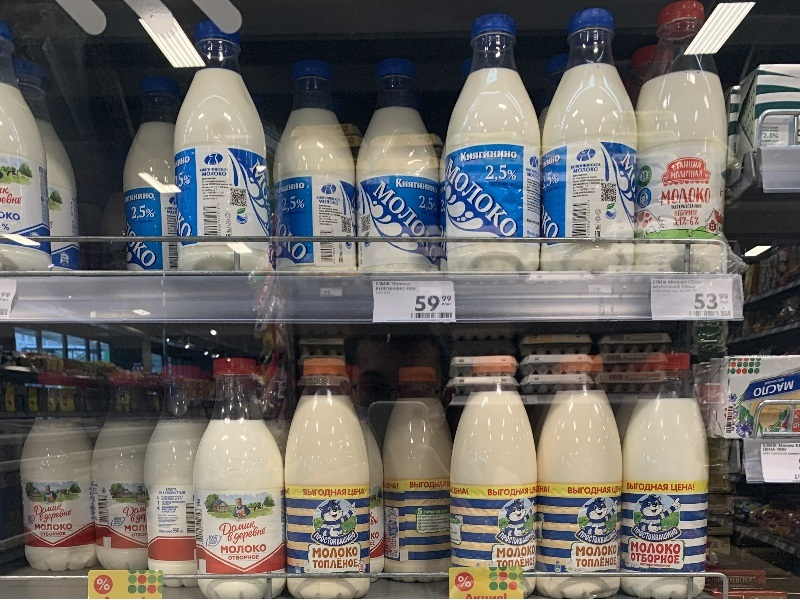milk: (164, 18, 283, 282), (440, 10, 553, 280), (636, 1, 738, 277), (544, 6, 645, 283), (185, 350, 288, 598), (525, 355, 630, 598), (283, 351, 380, 598), (620, 347, 715, 597), (448, 355, 542, 594), (354, 55, 448, 279)
